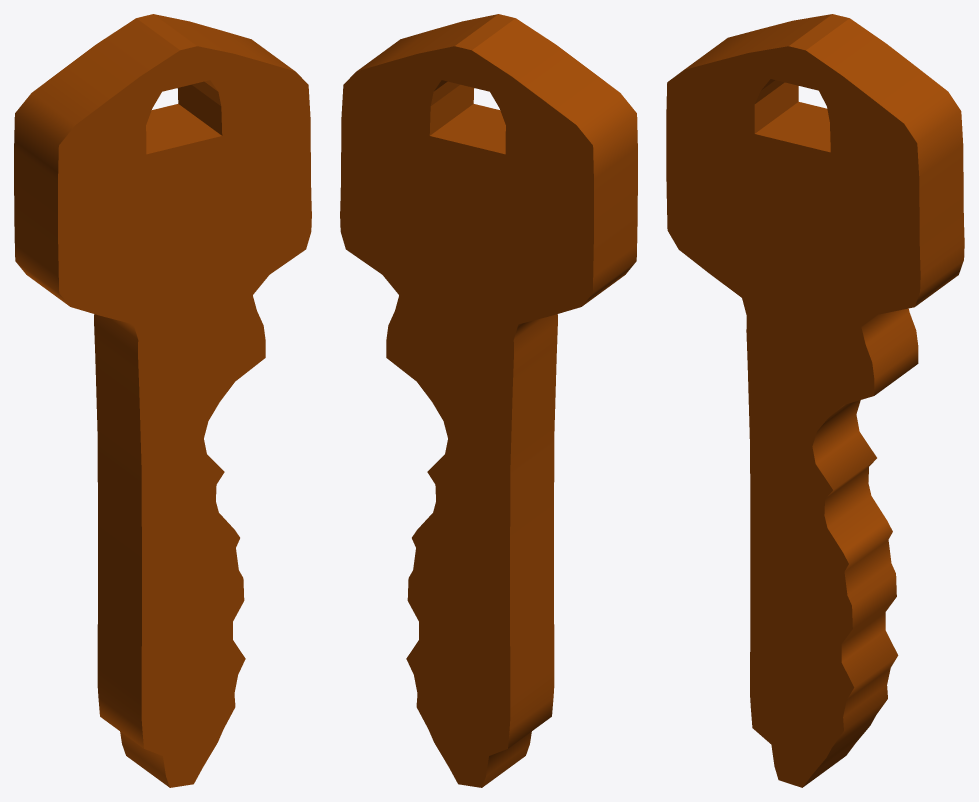
File: LLave.fbx
The picture shows the model from 3 angles, left to right: view 1: azimuth 30°, elevation 25°; view 2: azimuth 150°, elevation 25°; view 3: azimuth 330°, elevation 25°; orthographic projection.
Parts seen in each view (by area): view 1: Box001; view 2: Box001; view 3: Box001.
Part boxes in pixels (x1,y1,x2,y2): Box001: [14, 14, 311, 787]; Box001: [340, 14, 637, 787]; Box001: [666, 14, 964, 787].
Bounding box in the file's own units: 21.42 × 6.42 × 59.43.
